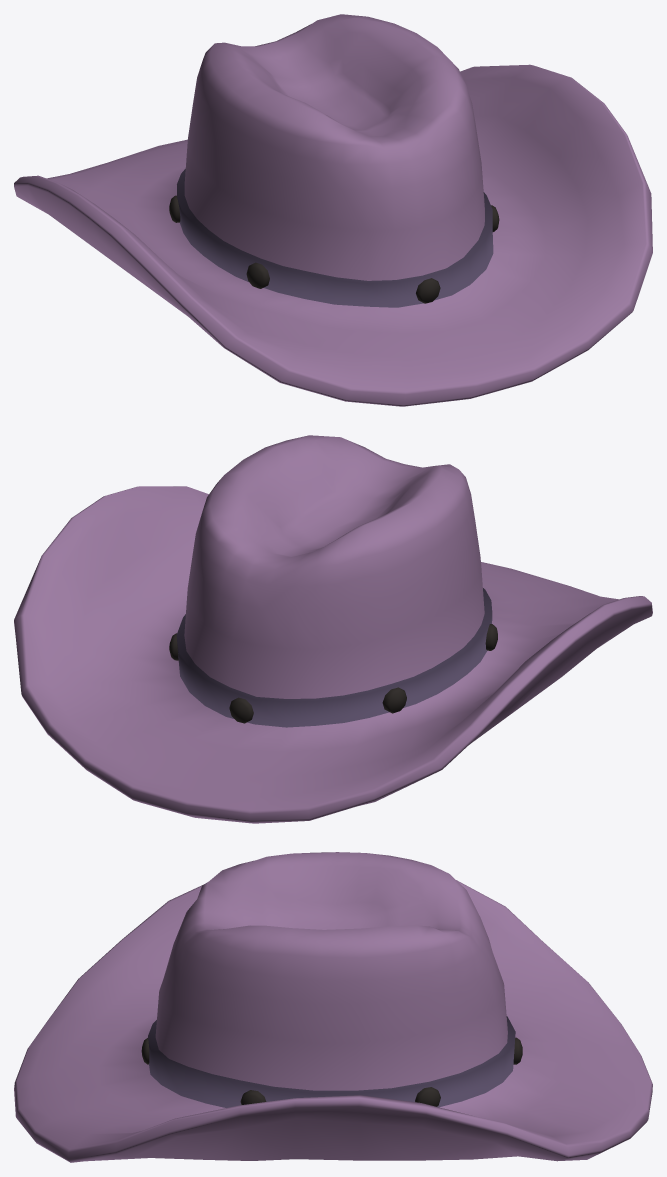
File: Hat_Cowboy.fbx
3 views of the same model, one above another, from view 1: azimuth 30°, elevation 25°; view 2: azimuth 150°, elevation 25°; view 3: azimuth 270°, elevation 25° (orthographic).
Parts seen in each view (by area): view 1: CowboyHat; view 2: CowboyHat; view 3: CowboyHat.
Part boxes in pixels (box(x1,y1,x2,y2)): CowboyHat: box(14, 14, 652, 406); CowboyHat: box(14, 435, 652, 823); CowboyHat: box(14, 852, 652, 1162).
Size of the model in its own units: 388 by 163 by 430.
